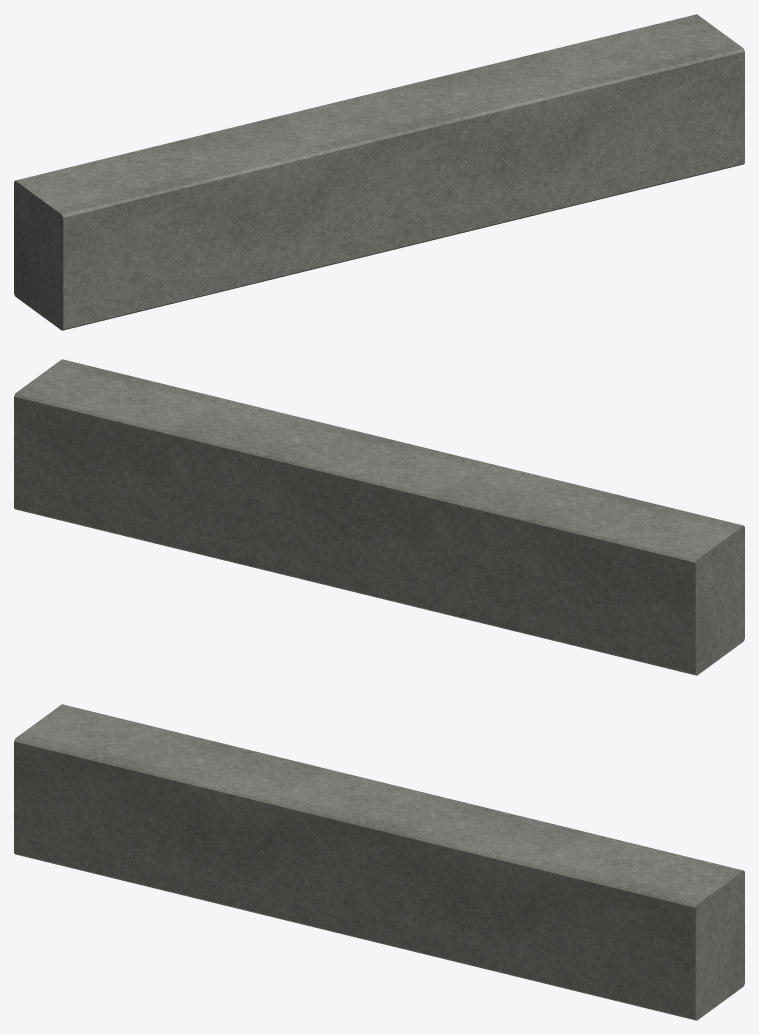
File: PZ_Beam_0500x0650_4m.glb
3 renders of one model, top to bottom at view 1: azimuth 30°, elevation 25°; view 2: azimuth 150°, elevation 25°; view 3: azimuth 330°, elevation 25°, orthographic.
Parts seen in each view (by area): view 1: RENDER_PZ_Beam_0500x0650_4m__RENDER_Beam_Precast_Core__000; view 2: RENDER_PZ_Beam_0500x0650_4m__RENDER_Beam_Precast_Core__000; view 3: RENDER_PZ_Beam_0500x0650_4m__RENDER_Beam_Precast_Core__000.
Part boxes in pixels (left/top/right/bottom): RENDER_PZ_Beam_0500x0650_4m__RENDER_Beam_Precast_Core__000: left=14, top=14, right=744, bottom=330; RENDER_PZ_Beam_0500x0650_4m__RENDER_Beam_Precast_Core__000: left=14, top=359, right=744, bottom=675; RENDER_PZ_Beam_0500x0650_4m__RENDER_Beam_Precast_Core__000: left=14, top=704, right=744, bottom=1020.
Bounding box in the file's own units: 4 × 0.65 × 0.505.
1 material, 1 textured.
